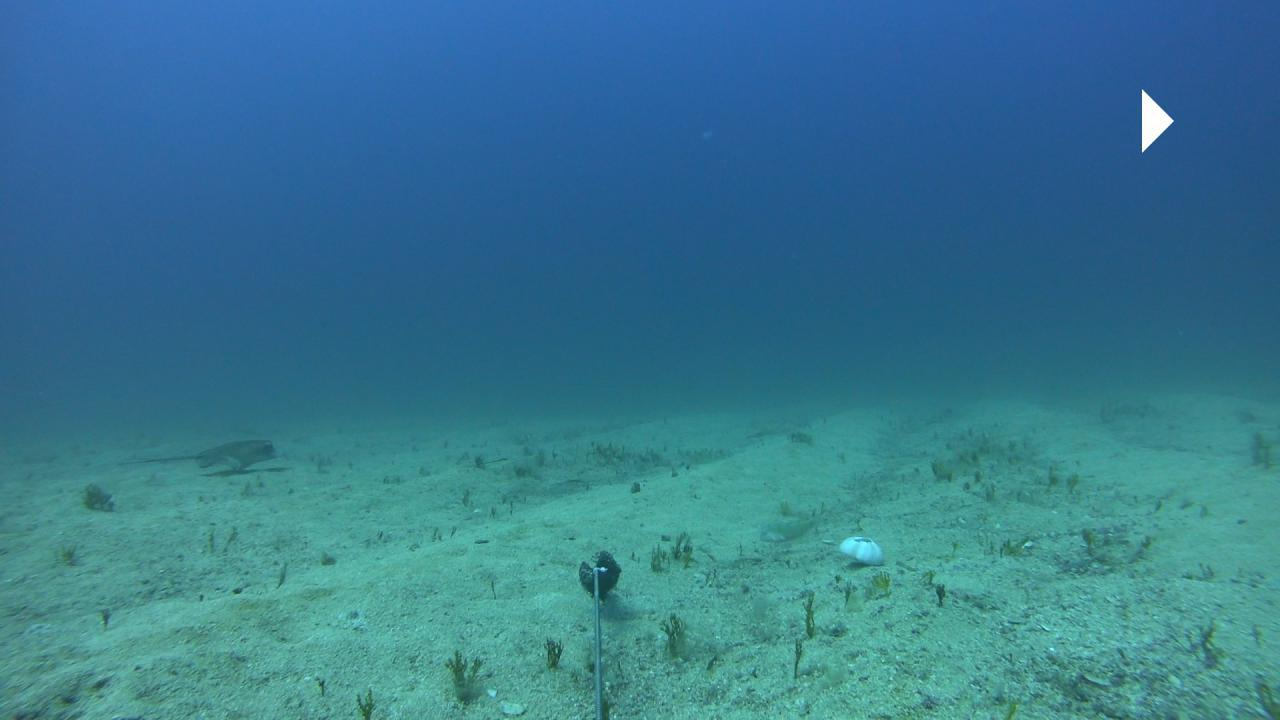dasyatis: (113, 438, 283, 470)
